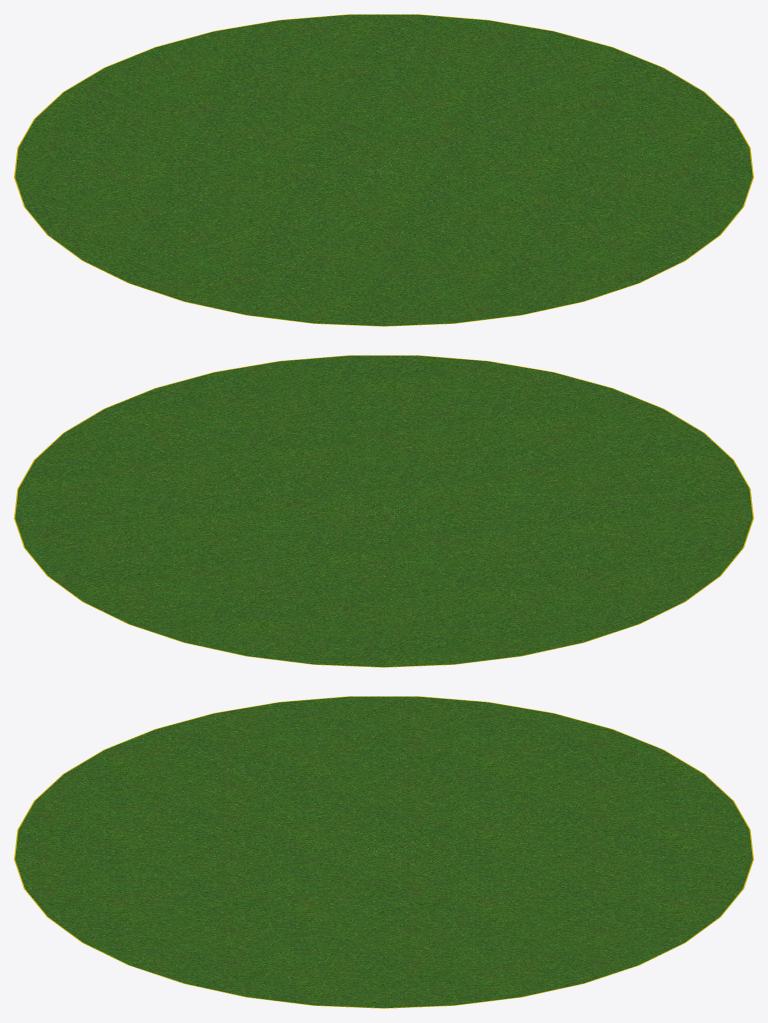
File: MatchCircleA.fbx
3 renders of one model, top to bottom at view 1: azimuth 30°, elevation 25°; view 2: azimuth 150°, elevation 25°; view 3: azimuth 270°, elevation 25°, orthographic.
Visible parts, largest first — view 1: geom_MatchCircle; view 2: geom_MatchCircle; view 3: geom_MatchCircle.
Part boxes in pixels (box(x1,y1,x2,y2)): geom_MatchCircle: box(14, 14, 753, 326); geom_MatchCircle: box(14, 355, 753, 667); geom_MatchCircle: box(14, 696, 753, 1008).
Size of the model in its own units: 581 by 0.01 by 582.
